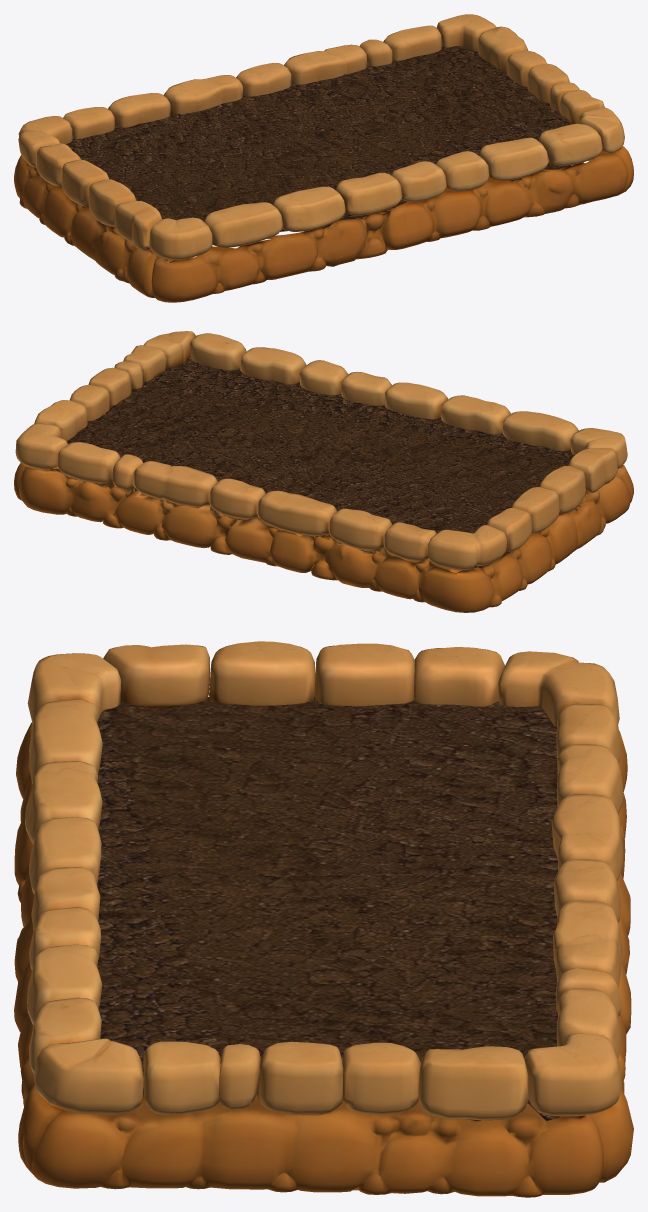
3 renders of one model, top to bottom at view 1: azimuth 30°, elevation 25°; view 2: azimuth 150°, elevation 25°; view 3: azimuth 270°, elevation 25°, orthographic. The views are drawn at different scales.
Parts seen in each view (by area): view 1: garden-bed; view 2: garden-bed; view 3: garden-bed.
Boxes of the visible parts, left/top/right/bottom form: garden-bed: left=14, top=14, right=633, bottom=302; garden-bed: left=14, top=331, right=633, bottom=612; garden-bed: left=14, top=641, right=633, bottom=1197.
Size of the model in its own units: 1.5 by 0.2144 by 0.9017.
1 material, 1 textured.
